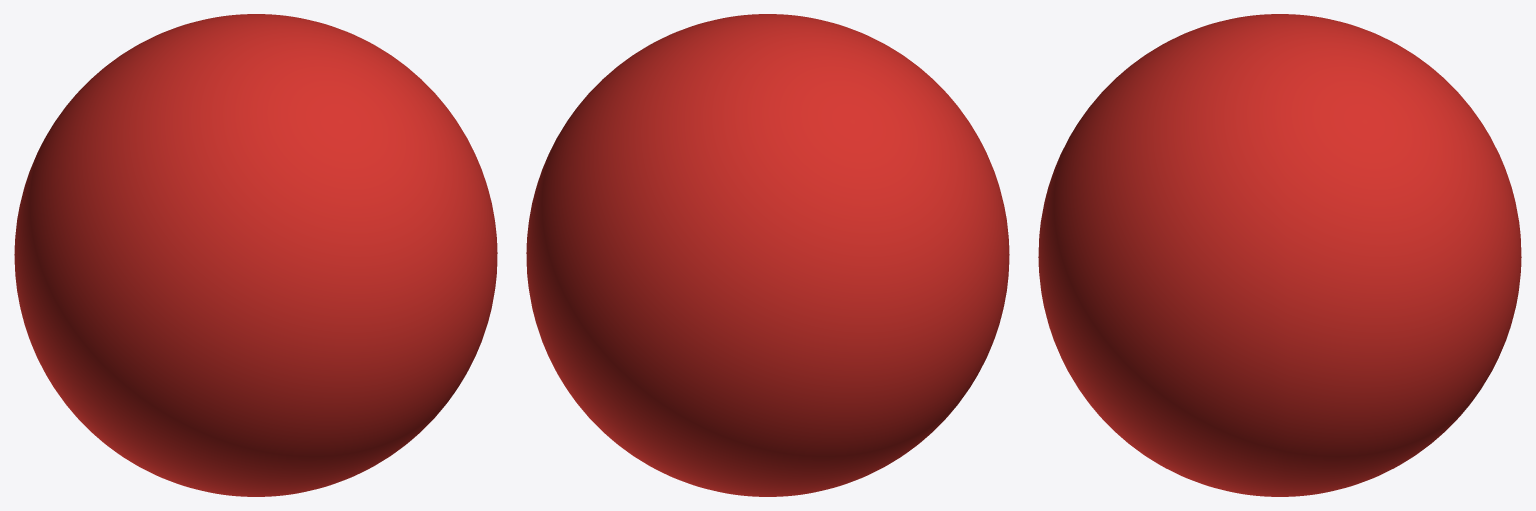
File: Red-buoy.color.dae
3 renders of one model, left to right at view 1: azimuth 30°, elevation 25°; view 2: azimuth 150°, elevation 25°; view 3: azimuth 270°, elevation 25°, orthographic.
Parts seen in each view (by area): view 1: RED-BUOY; view 2: RED-BUOY; view 3: RED-BUOY.
Boxes of the visible parts, x1,y1,x2,y2 form: RED-BUOY: (14, 14, 497, 496); RED-BUOY: (526, 14, 1009, 496); RED-BUOY: (1038, 14, 1521, 496).
Bounding box in the file's own units: 22.86 × 22.86 × 22.86.
